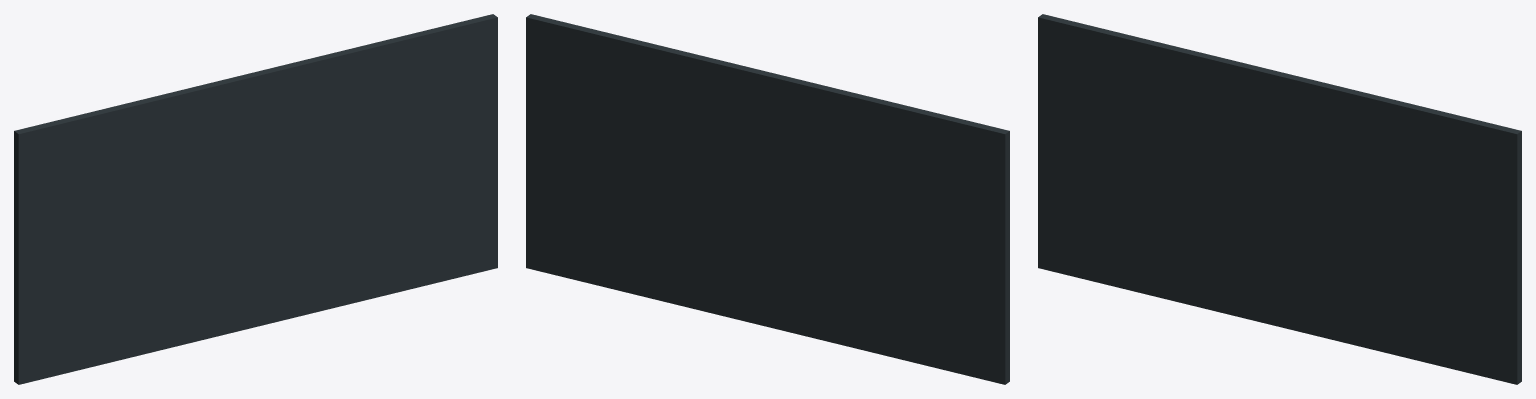
Rendered from ParedDeSalaNets.fbx.
The picture shows the model from 3 angles, left to right: view 1: azimuth 30°, elevation 25°; view 2: azimuth 150°, elevation 25°; view 3: azimuth 330°, elevation 25°; orthographic projection.
Visible parts, largest first — view 1: Pared.006; view 2: Pared.006; view 3: Pared.006.
Part boxes in pixels (x1,y1,x2,y2): Pared.006: (14, 14, 497, 384); Pared.006: (526, 14, 1009, 384); Pared.006: (1038, 14, 1521, 384).
Size of the model in its own units: 600 by 300 by 10.
1 material, 1 textured.
